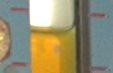border: (86, 11, 108, 19), (10, 7, 33, 13), (87, 66, 110, 72), (11, 61, 29, 68)
liquidlevel: (29, 23, 78, 38)
